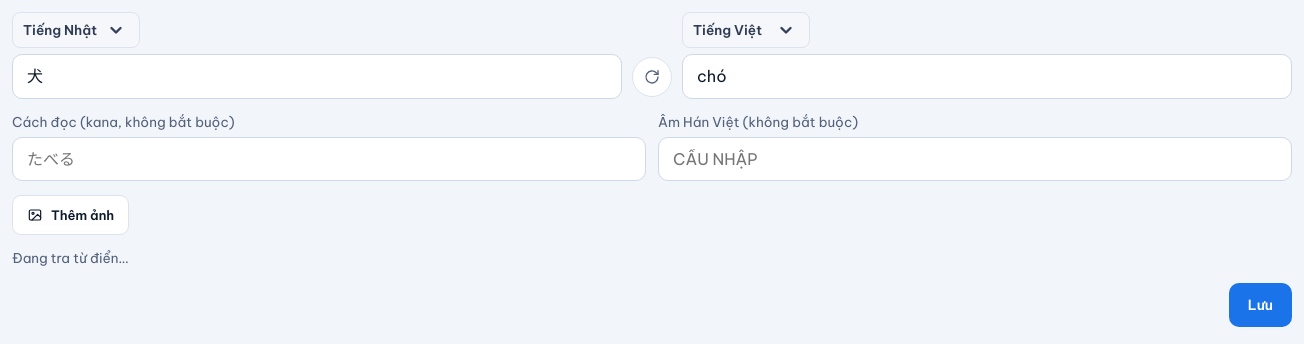
Test: CardEditor › swaps the two boxes and their languages
Click the button named "Đổi hai ô" at (652, 77), box [632,57,672,97]
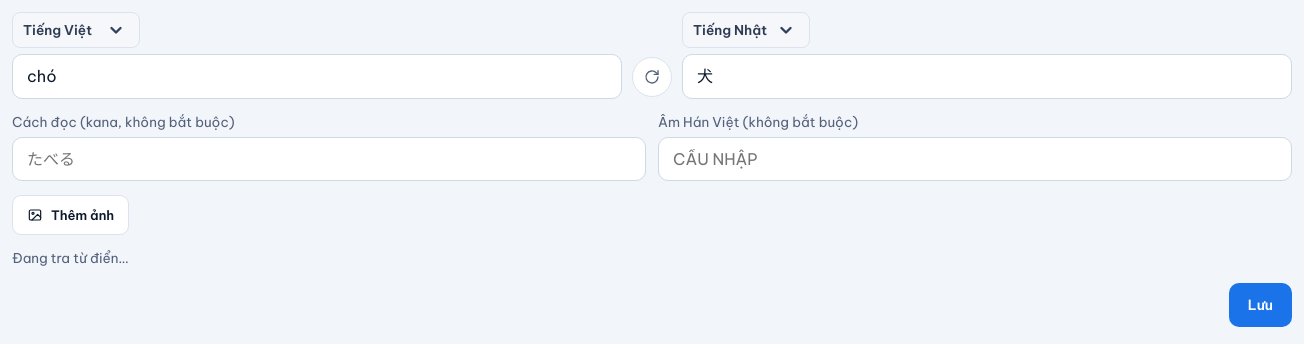
Now the text box named "từ" holds "chó", box [12,54,622,99]
Now the 1st dropdown named "Ngôn ngữ ô bên trái" shows "Tiếng Việt", box [12,12,140,48]
Now the 2nd dropdown named "Ngôn ngữ ô bên phải" shows "Tiếng Nhật", box [682,12,810,48]
